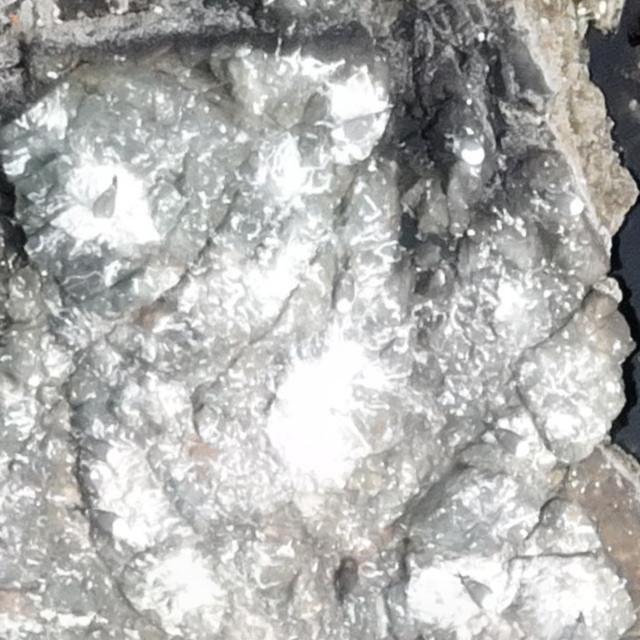umineko: (90, 508, 128, 540), (466, 576, 498, 612), (541, 190, 587, 215), (332, 116, 378, 139), (93, 185, 117, 228), (456, 130, 487, 163), (494, 428, 527, 456), (334, 267, 354, 311)
